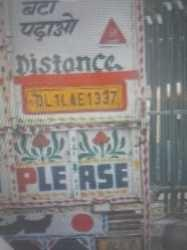License plate: (24, 84, 122, 112)
